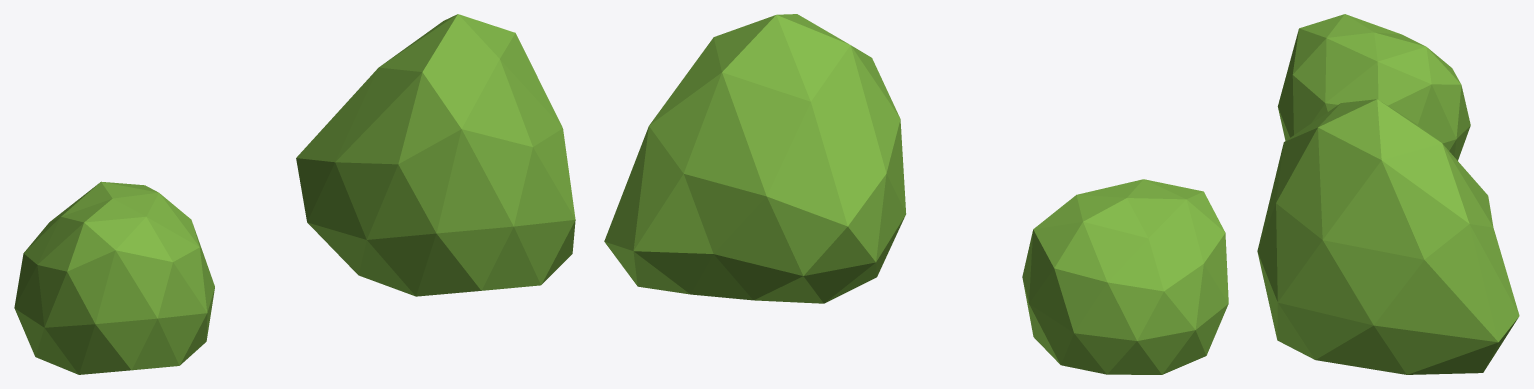
File: Planta_Arbustitos_008.fbx
The picture shows the model from 3 angles, left to right: view 1: azimuth 30°, elevation 25°; view 2: azimuth 150°, elevation 25°; view 3: azimuth 270°, elevation 25°; orthographic projection. The views are drawn at different scales.
Parts seen in each view (by area): view 1: Bush2; view 2: Bush2; view 3: Bush2.
Part boxes in pixels (x1,y1,x2,y2): Bush2: (14,14,575,374); Bush2: (604,14,1228,374); Bush2: (1257,14,1519,374).
Size of the model in its own units: 63.91 by 28.57 by 28.47.
Materials: 1 (1 with a texture image).
